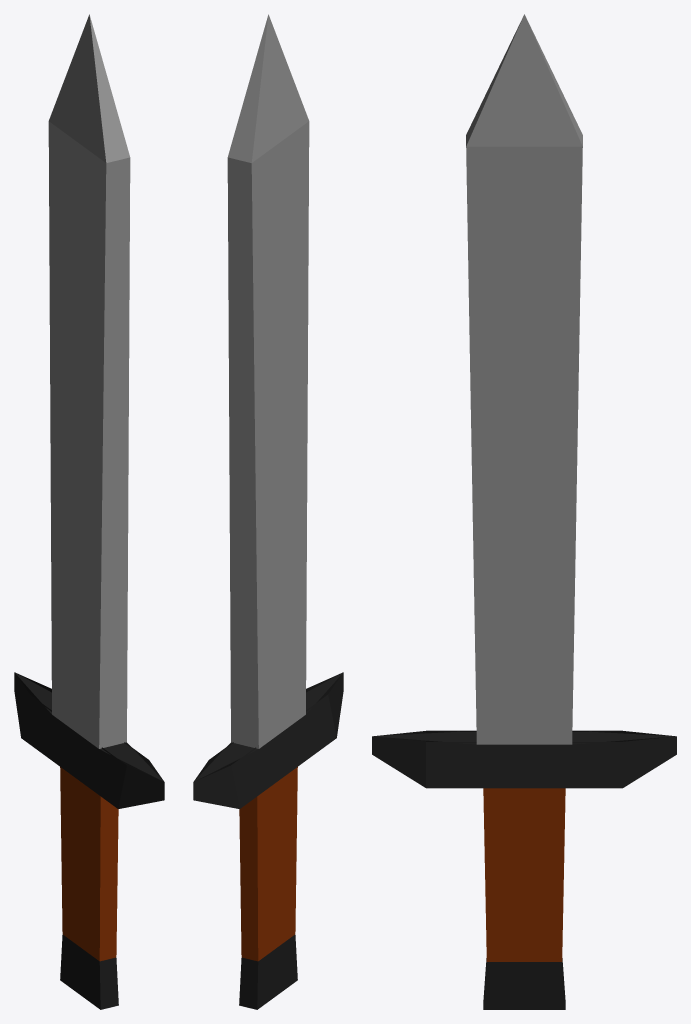
The model's file is sword.obj.
The picture shows the model from 3 angles, left to right: view 1: azimuth 30°, elevation 25°; view 2: azimuth 150°, elevation 25°; view 3: azimuth 270°, elevation 25°; orthographic projection.
Parts seen in each view (by area): view 1: sword; view 2: sword; view 3: sword.
Part boxes in pixels (x1,y1,x2,y2): sword: (14,14,164,1009); sword: (193,14,343,1009); sword: (372,14,676,1009).
Bounding box in the file's own units: 0.012 × 0.2841 × 0.0792.
